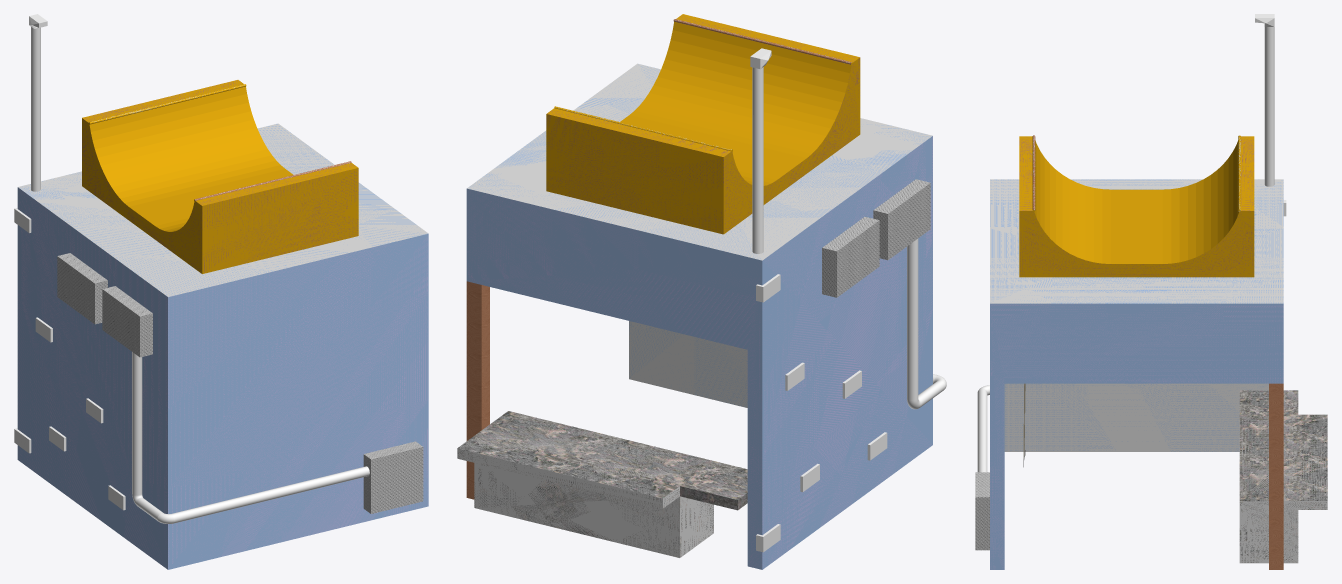
The model's file is hut3.glb.
The picture shows the model from 3 angles, left to right: view 1: azimuth 30°, elevation 25°; view 2: azimuth 150°, elevation 25°; view 3: azimuth 270°, elevation 25°; orthographic projection. The views are drawn at different scales.
Parts seen in each view (by area): view 1: group_0.001, group_13.002, group_13.001, group_0.002, SketchUp, group_6, group_4, group_5, group_14; view 2: group_0.001, group_13.001, group_13.002, group_0.002, group_2, group_2.001, group_0, group_1, group_5, group_4, SketchUp, group_3 (+2 smaller); view 3: group_0.001, group_0, group_13.002, group_0.002, group_13.001, group_2.001, group_2, group_1, group_14, group_6, group_3, SketchUp.
Boxes of the visible parts, x1=… form: group_0.001: x1=17, y1=187, x2=428, y2=569; group_13.002: x1=89, y1=86, x2=293, y2=231; group_13.001: x1=82, y1=80, x2=358, y2=273; group_0.002: x1=18, y1=123, x2=428, y2=296; SketchUp: x1=132, y1=352, x2=369, y2=523; group_6: x1=363, y1=441, x2=423, y2=513; group_4: x1=102, y1=286, x2=152, y2=357; group_5: x1=57, y1=253, x2=107, y2=324; group_14: x1=31, y1=27, x2=40, y2=191; group_0.001: x1=466, y1=136, x2=932, y2=569; group_13.001: x1=546, y1=14, x2=860, y2=234; group_13.002: x1=620, y1=21, x2=851, y2=185; group_0.002: x1=467, y1=63, x2=932, y2=260; group_2: x1=457, y1=448, x2=713, y2=557; group_2.001: x1=457, y1=411, x2=713, y2=498; group_0: x1=629, y1=321, x2=747, y2=407; group_1: x1=466, y1=281, x2=489, y2=499; group_5: x1=822, y1=216, x2=879, y2=297; group_4: x1=873, y1=179, x2=930, y2=260; SketchUp: x1=907, y1=238, x2=946, y2=409; group_3: x1=680, y1=461, x2=747, y2=510; group_0.001: x1=990, y1=303, x2=1283, y2=569; group_0: x1=1004, y1=383, x2=1268, y2=451; group_13.002: x1=1034, y1=140, x2=1238, y2=263; group_0.002: x1=990, y1=179, x2=1283, y2=303; group_13.001: x1=1019, y1=136, x2=1254, y2=277; group_2.001: x1=1239, y1=414, x2=1327, y2=500; group_2: x1=1239, y1=501, x2=1327, y2=563; group_1: x1=1269, y1=383, x2=1283, y2=569; group_14: x1=1264, y1=27, x2=1274, y2=186; group_6: x1=975, y1=472, x2=989, y2=550; group_3: x1=1239, y1=390, x2=1298, y2=414; SketchUp: x1=977, y1=385, x2=989, y2=472.
Bounding box in the file's own units: 3.2 × 4.98 × 3.66.
17 materials, 5 textured.
